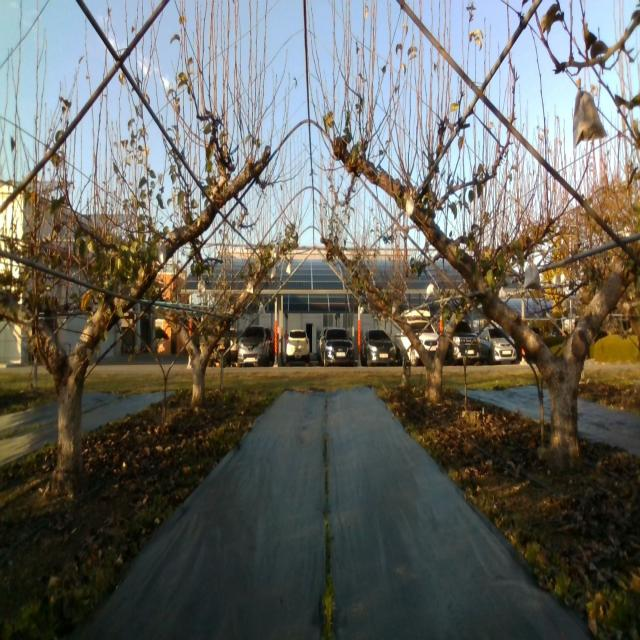pearbags: (572, 90, 608, 146), (524, 263, 541, 292)
